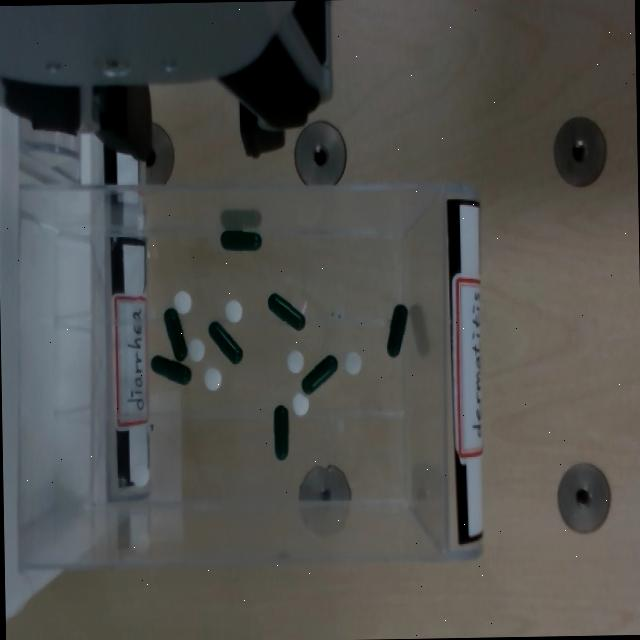ganakan_tab: (202, 365, 222, 393), (343, 350, 362, 377), (291, 391, 310, 417), (224, 299, 243, 322), (173, 291, 191, 315), (174, 291, 192, 314), (287, 350, 304, 374), (188, 339, 205, 363), (292, 393, 309, 416), (225, 300, 242, 323), (346, 351, 362, 375), (287, 351, 304, 373), (204, 368, 221, 390), (188, 339, 205, 361)
monodoxy_cap: (207, 320, 243, 367), (299, 354, 338, 397), (267, 292, 306, 333), (209, 322, 243, 364), (302, 356, 338, 395), (163, 307, 188, 363), (385, 303, 409, 360), (269, 293, 305, 331), (150, 354, 191, 387), (151, 356, 191, 385), (165, 310, 187, 360), (219, 228, 261, 254), (388, 304, 408, 356), (272, 404, 289, 462), (221, 230, 261, 251), (274, 406, 289, 460)
